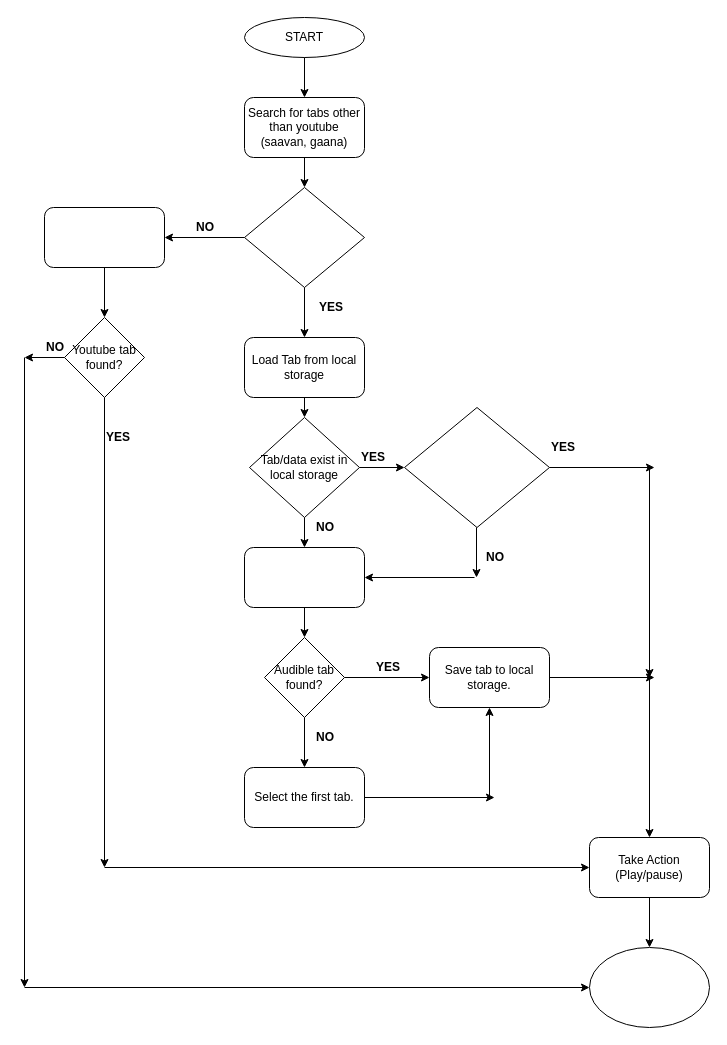
Image size: 727x1045. Some labels were removed from this diagram. The shapes that lost their labels are listed below. From the top down, each one's box as (x1, y1, x2, y2) in pixels, then its label:
(44, 206, 164, 268): Find for youtube tab.
(244, 186, 364, 288): Tab found other than youtube?
(404, 406, 550, 528): Search for tab, does it exist in current chrome windows?
(244, 546, 364, 608): Search for audible tabs.
(588, 946, 710, 1028): Stop
